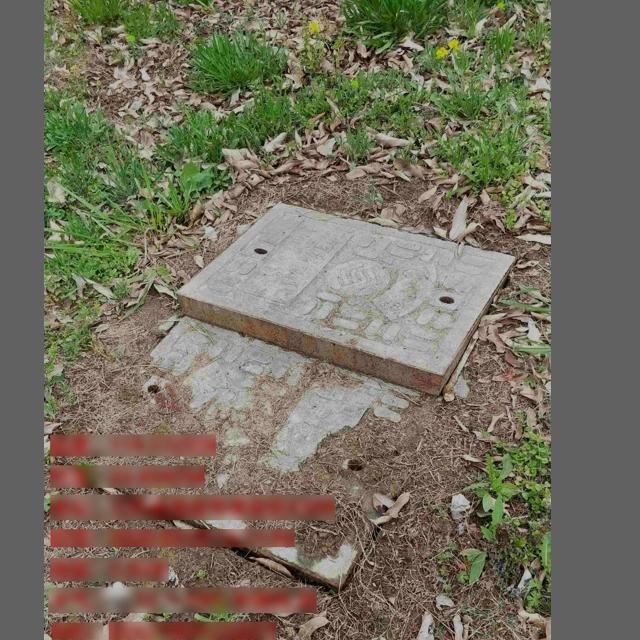uncovered: (59, 198, 512, 585)
